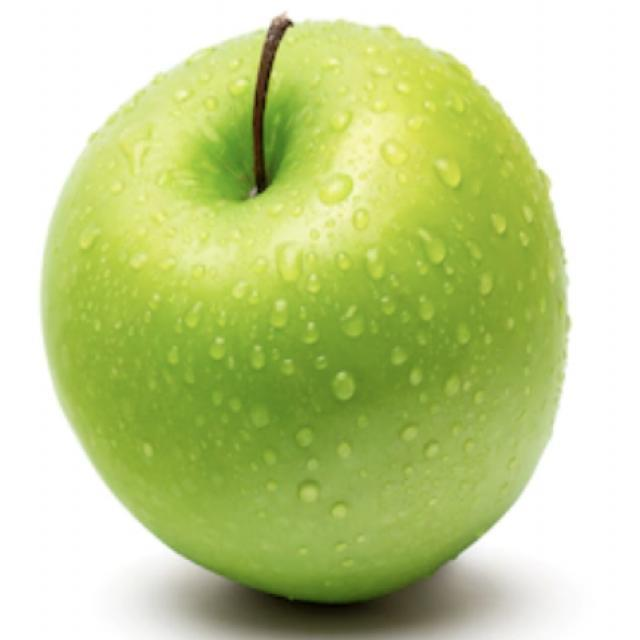Fresh Apple: (50, 23, 568, 587)
